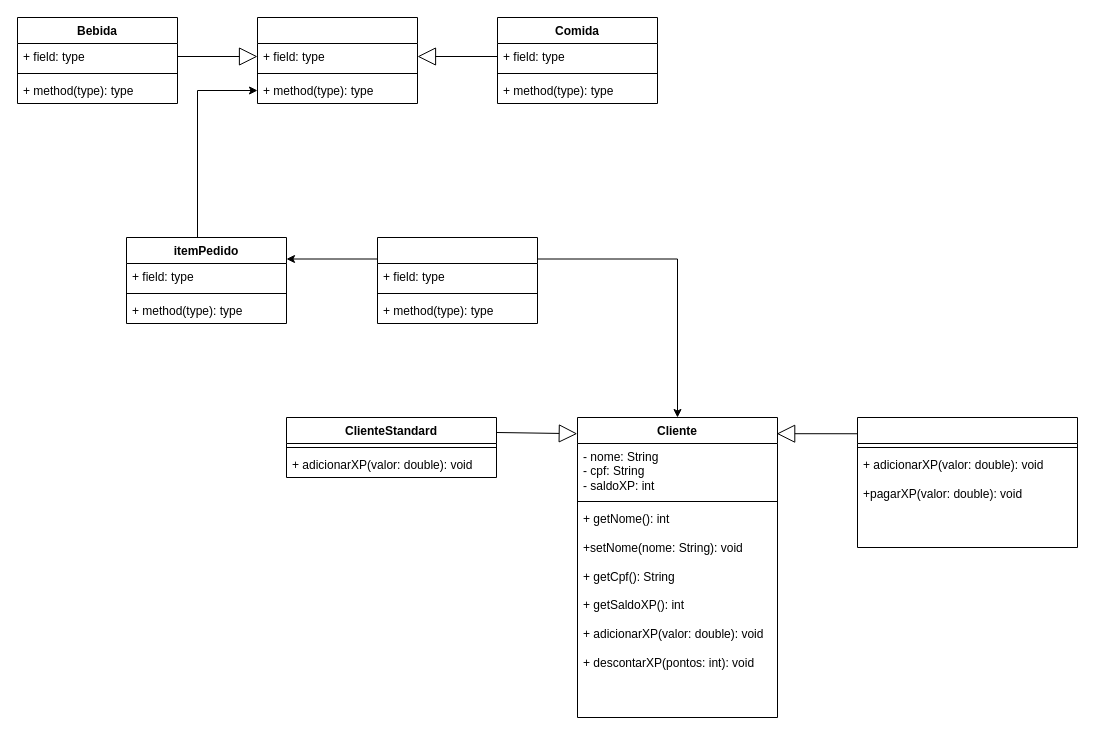
This 1095x738 diagram has some shape labels left out. Here are the shapes that lost their labels. From the top down, the box of each, then its label:
(256, 16, 418, 104): Produto
(376, 236, 538, 324): Pedido
(856, 416, 1078, 548): ClienteVIP
